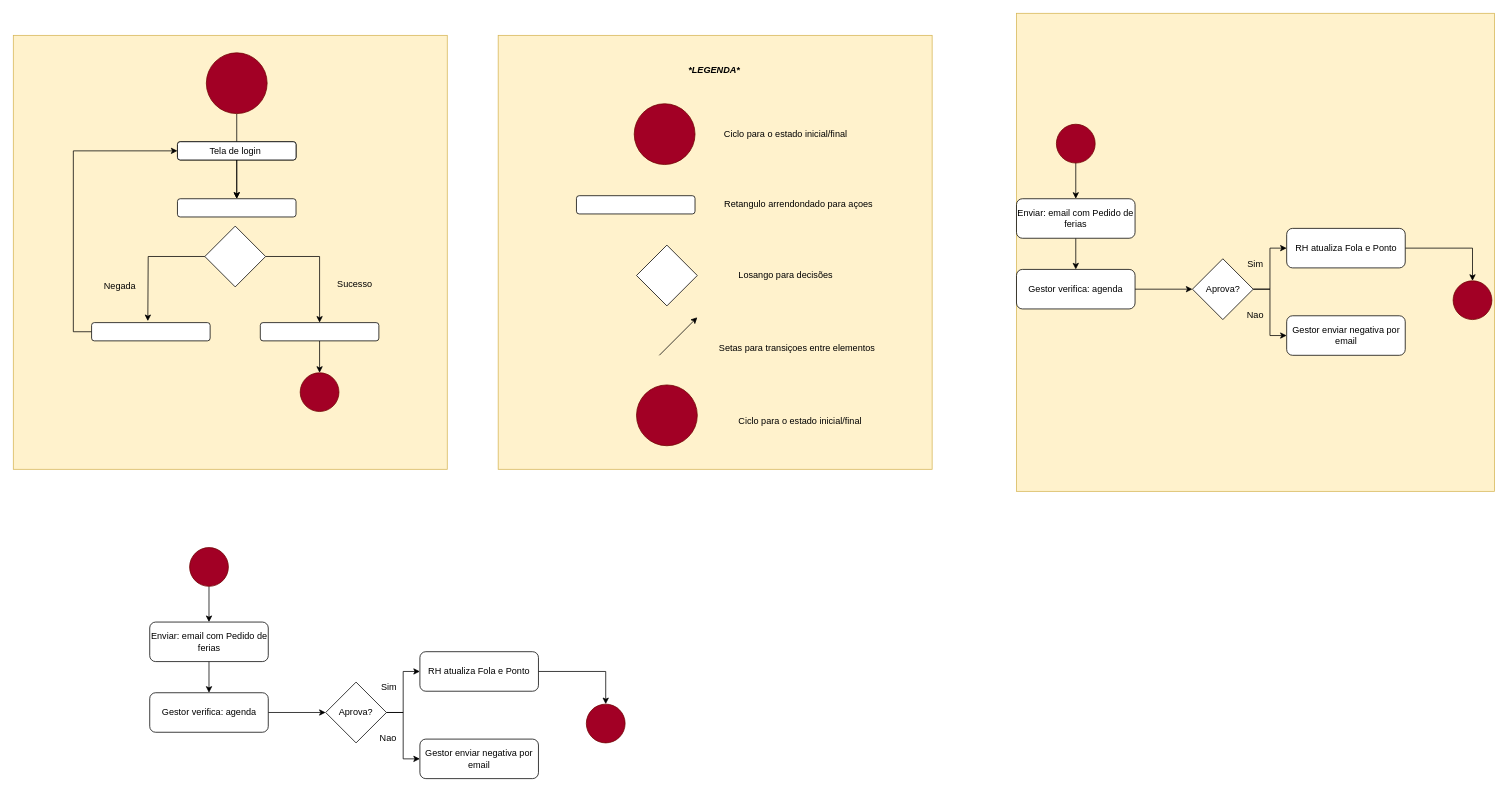
Some shapes in this 1508 by 792 pixel diagram are drawn without their labels. Each missing label, with the centre of its shape:
Acesso ao Sistema: point (319, 331)
Autenticaçao: point (236, 207)
Autentificaçao negada: point (150, 331)
